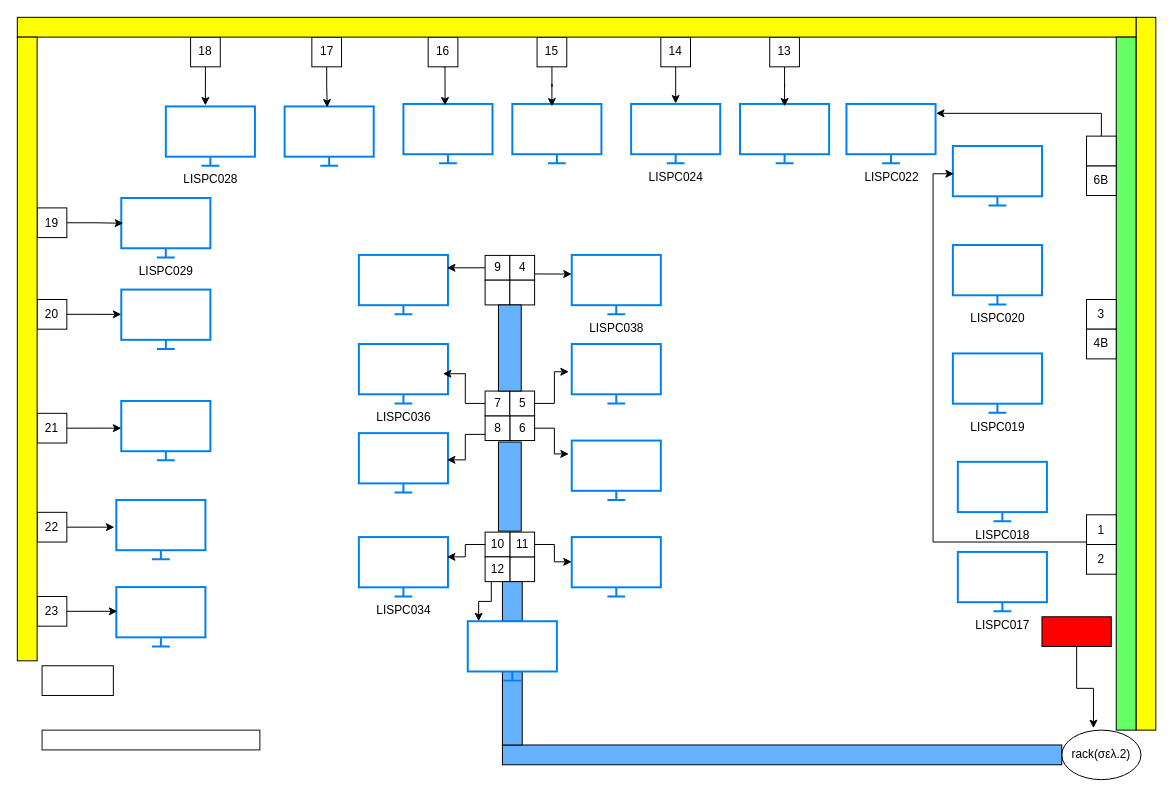
The diagram is 1173 pixels wide and 797 high, and some of its shapes have lost their labels. Each missing label, with the box of its shape:
5BA-14: (41, 665, 113, 695)
5Β: (1086, 135, 1116, 166)
5ΒΑ-03: (1041, 616, 1111, 646)
LISPC021: (951, 145, 1042, 206)
LISPC023: (739, 102, 830, 164)
LISPC025: (511, 102, 602, 164)
LISPC026: (402, 102, 493, 164)
LISPC027: (283, 105, 374, 166)
LISPC030: (120, 288, 211, 349)
LISPC031: (120, 399, 211, 461)
LISPC032: (115, 498, 206, 560)
LISPC033: (115, 586, 206, 647)
LISPC035: (357, 432, 448, 493)
LISPC037: (357, 253, 448, 315)
LISPC039: (570, 343, 661, 404)
LISPC040: (570, 439, 661, 500)
LISPC041: (570, 536, 661, 597)
LISPC042: (466, 620, 557, 681)
ΤΕΚΜΗΡΊΩΣΗ ΕΡΓΑΣΤΗΡΙΟΥ Κ7.005: (41, 729, 260, 750)
